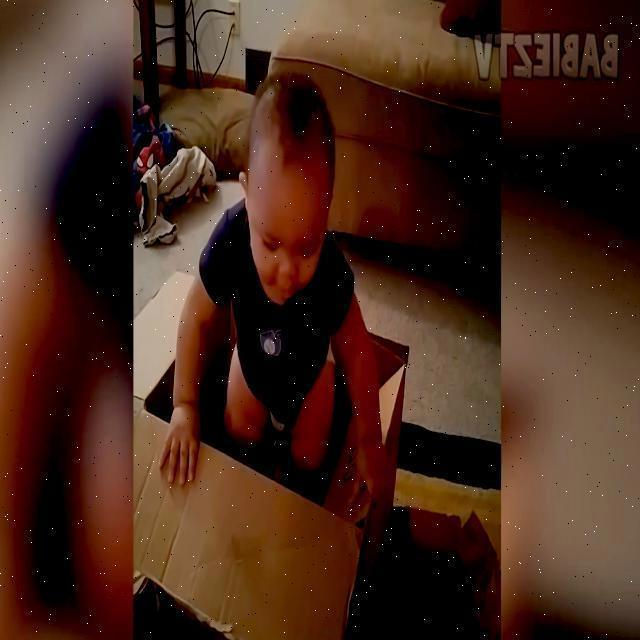child: (162, 72, 387, 511)
